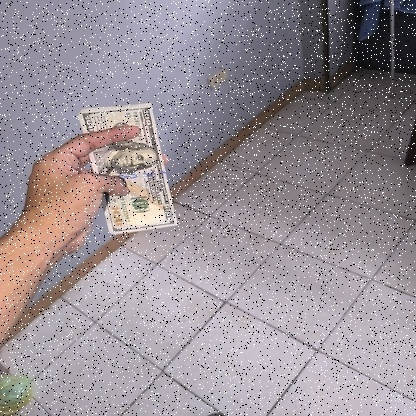one_hundred-front: (76, 101, 183, 233)
